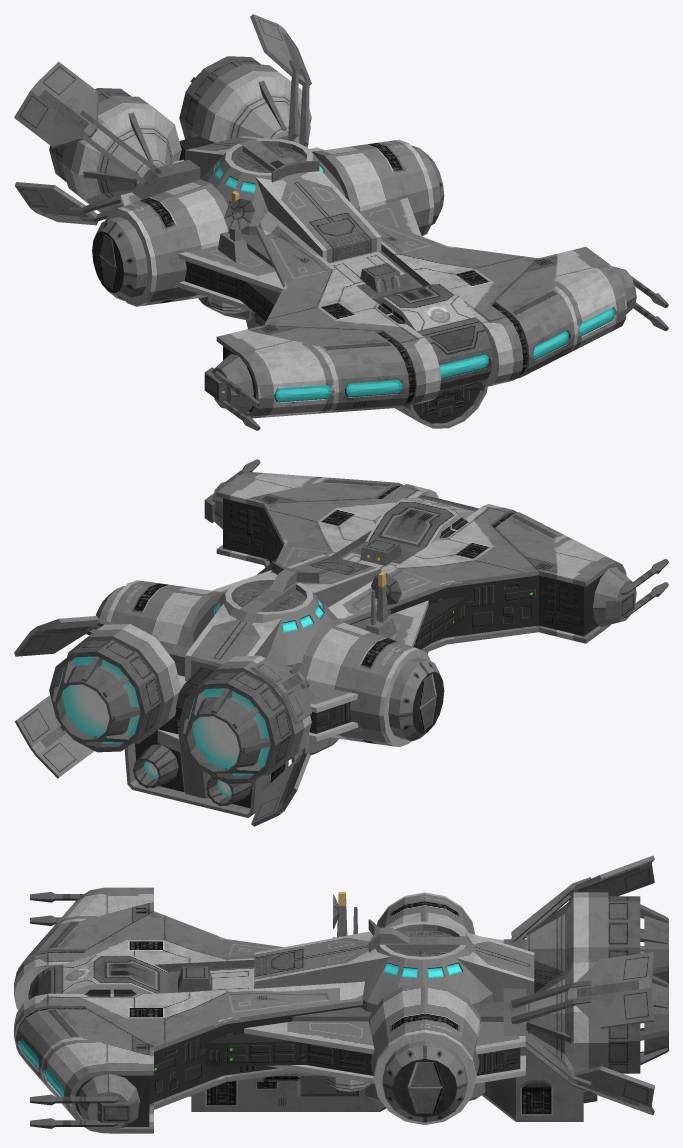
File: Defender_Corvette.obj
The picture shows the model from 3 angles, top to bottom: view 1: azimuth 30°, elevation 25°; view 2: azimuth 150°, elevation 25°; view 3: azimuth 270°, elevation 25°; orthographic projection.
Parts seen in each view (by area): view 1: Hull, Lights; view 2: Hull, Lights; view 3: Hull, Lights.
Boxes of the visible parts, x1=… form: Hull: x1=14, y1=14, x2=668, y2=430; Lights: x1=214, y1=160, x2=614, y2=402; Hull: x1=14, y1=459, x2=668, y2=826; Lights: x1=58, y1=599, x2=324, y2=796; Hull: x1=14, y1=855, x2=668, y2=1133; Lights: x1=20, y1=963, x2=462, y2=1096.
Size of the model in its own units: 98.38 by 41.97 by 131.
